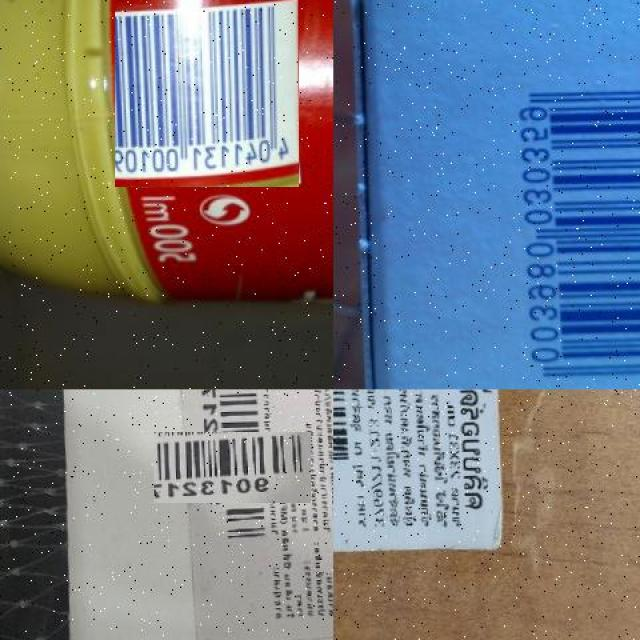Barcode: (497, 68, 640, 389), (114, 0, 301, 186), (175, 411, 290, 525)
